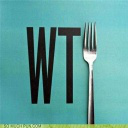Fork: (77, 16, 107, 128)
